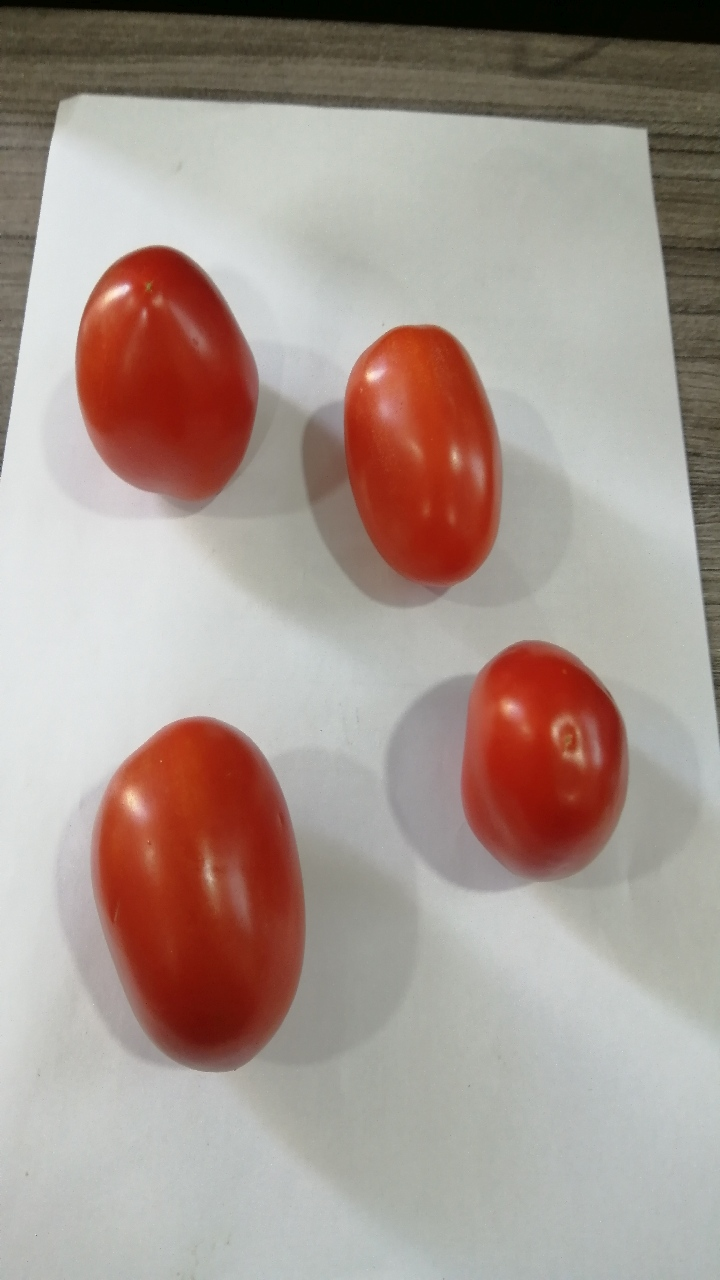tomateRojo: (72, 699, 337, 1095), (57, 231, 298, 517), (321, 305, 538, 599), (434, 628, 657, 891)
